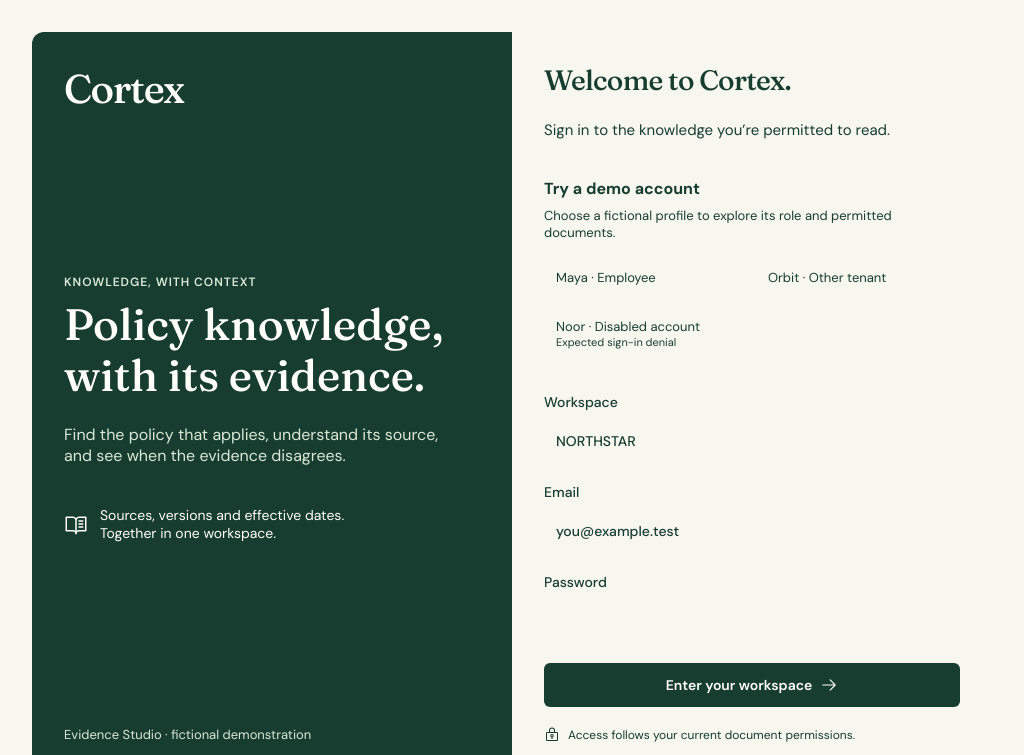
it: disabled profile still uses real authentication and displays denial
This screenshot has width=1024, height=755.
Click the button "Noor · Disabled account Expected sign-in denial".
click(646, 333)  # box [544, 309, 748, 357]
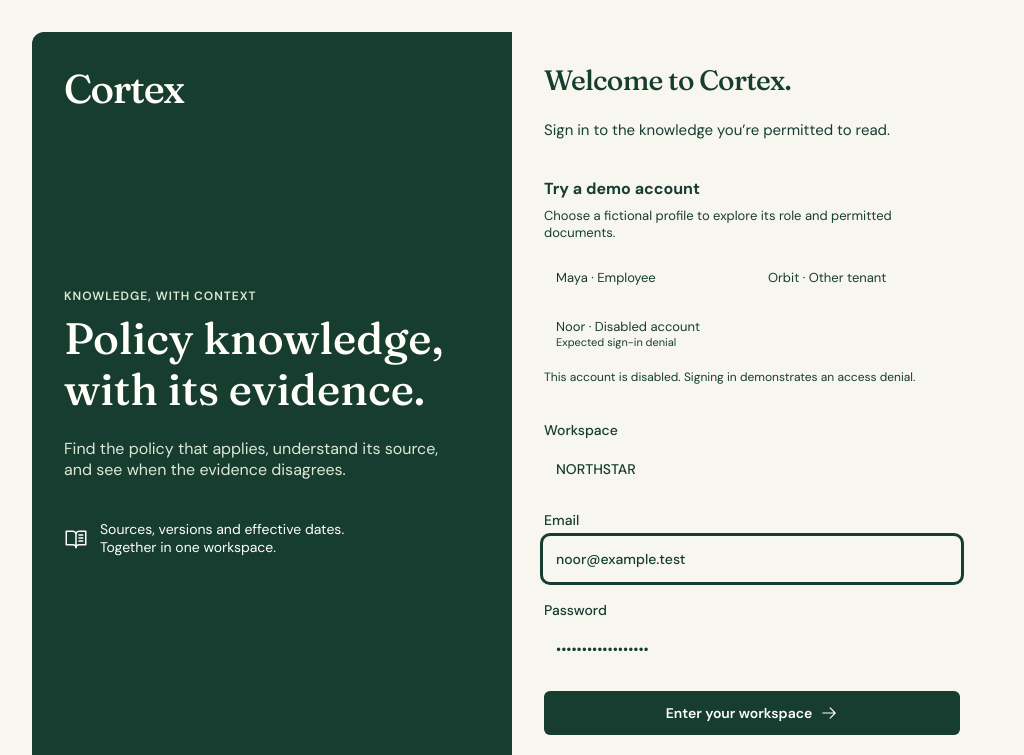
Click the button "Enter your workspace".
click(752, 713)  # box [544, 691, 960, 735]
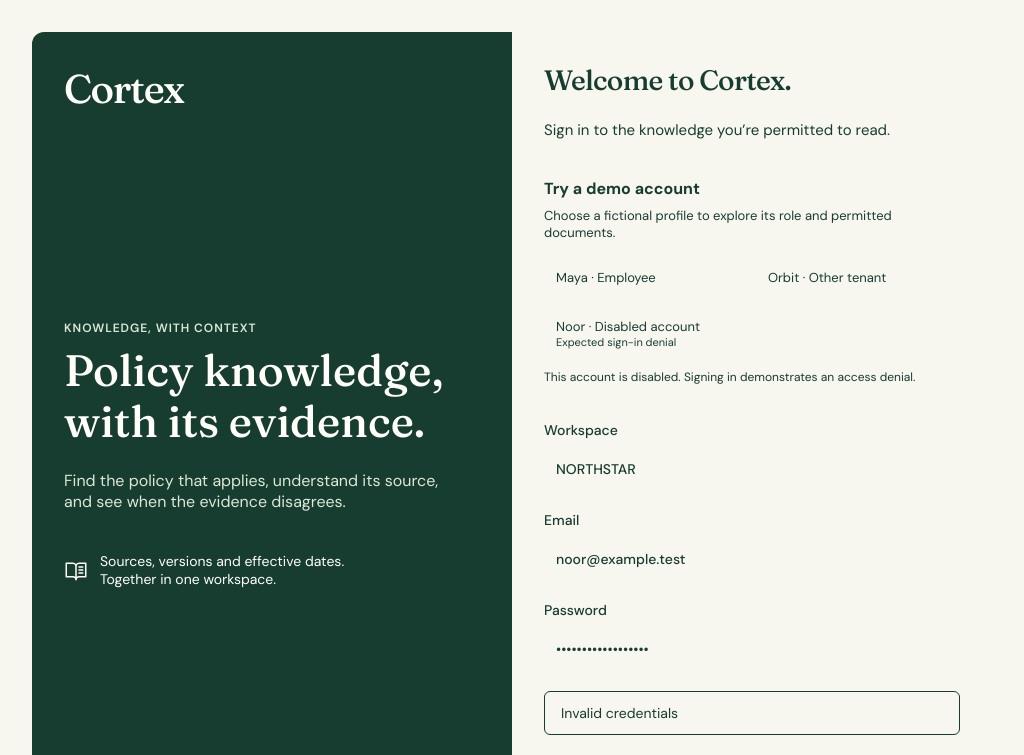
Expected: the message "Invalid credentials" is shown, [544, 691, 960, 735]
